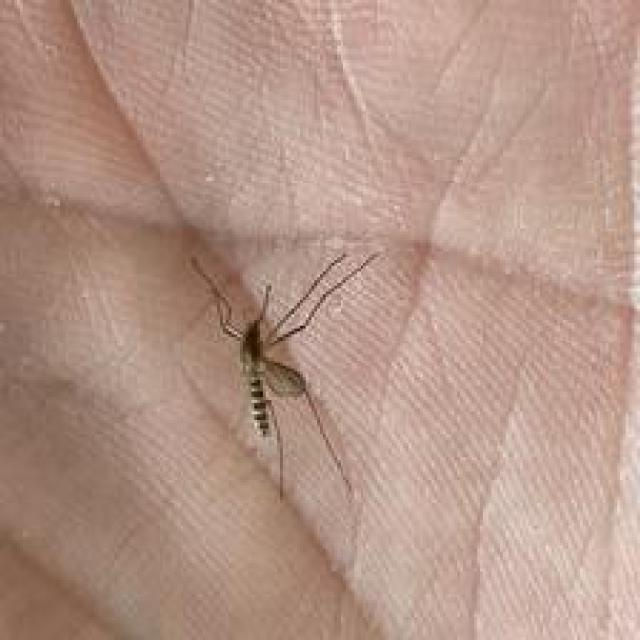Culex: (187, 248, 382, 503)
